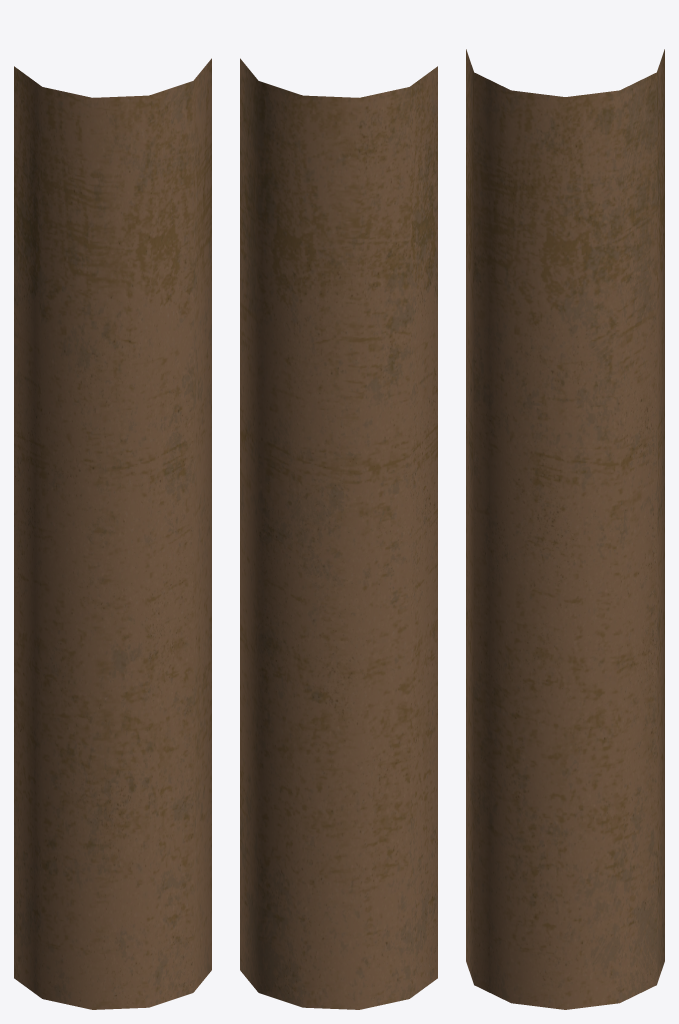
File: SM_ventilation_props_27.glb
The picture shows the model from 3 angles, left to right: view 1: azimuth 30°, elevation 25°; view 2: azimuth 150°, elevation 25°; view 3: azimuth 270°, elevation 25°; orthographic projection.
Parts seen in each view (by area): view 1: SM_ventilation_props_27; view 2: SM_ventilation_props_27; view 3: SM_ventilation_props_27.
Part boxes in pixels (x1,y1,x2,y2): SM_ventilation_props_27: (14,58,211,1009); SM_ventilation_props_27: (240,58,437,1009); SM_ventilation_props_27: (466,49,664,1009).
Bounding box in the file's own units: 0.3907 × 2 × 0.3947.
Materials: 1 (1 with a texture image).
